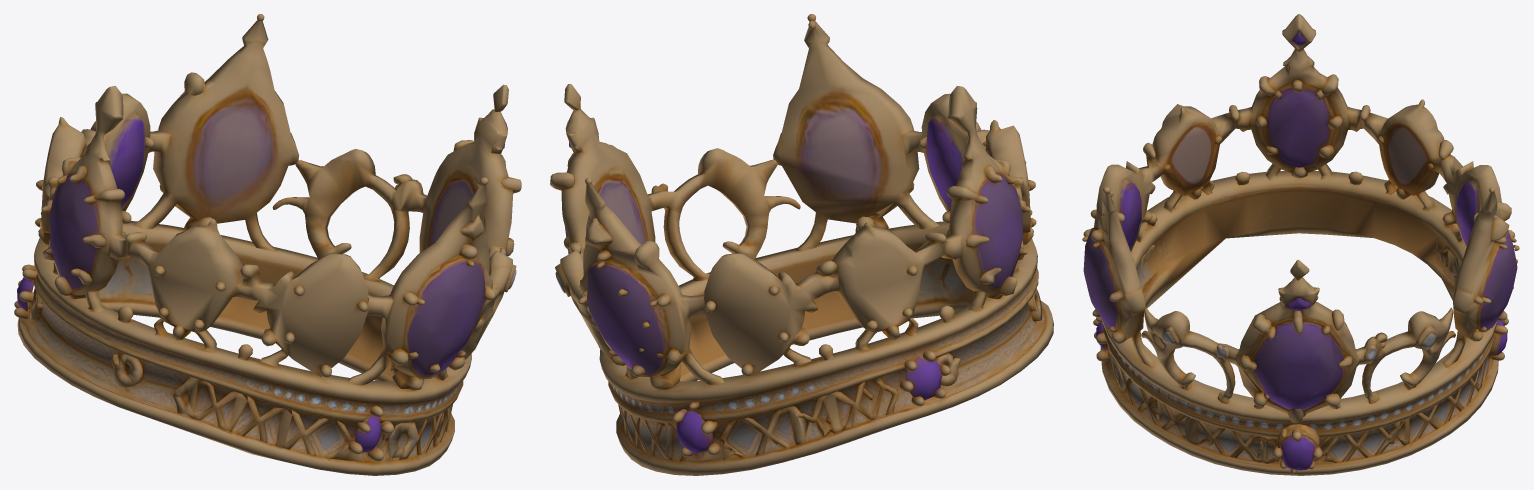
File: royal-crown.glb
3 views of the same model, side by side, from view 1: azimuth 30°, elevation 25°; view 2: azimuth 150°, elevation 25°; view 3: azimuth 270°, elevation 25° (orthographic). The views are drawn at different scales.
Parts seen in each view (by area): view 1: tripo_node_de269860-5d86-4296-a29d-2795949aef21; view 2: tripo_node_de269860-5d86-4296-a29d-2795949aef21; view 3: tripo_node_de269860-5d86-4296-a29d-2795949aef21.
Part boxes in pixels (x1,y1,x2,y2): tripo_node_de269860-5d86-4296-a29d-2795949aef21: (14, 14, 521, 475); tripo_node_de269860-5d86-4296-a29d-2795949aef21: (550, 14, 1053, 475); tripo_node_de269860-5d86-4296-a29d-2795949aef21: (1082, 14, 1519, 475).
Bounding box in the file's own units: 0.9995 × 0.8032 × 0.9614.
1 material, 1 textured.
